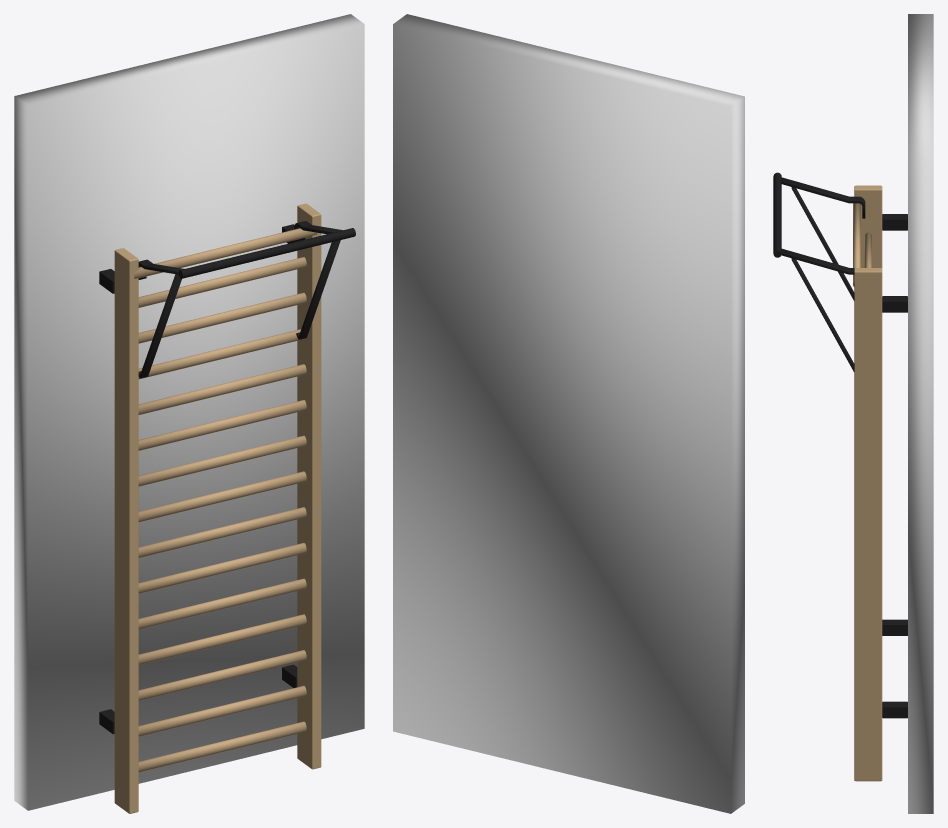
The model's file is gymleco-wooden-wall-bars-with-chins-rack_v001.glb.
3 renders of one model, left to right at view 1: azimuth 30°, elevation 25°; view 2: azimuth 150°, elevation 25°; view 3: azimuth 270°, elevation 25°, orthographic. The views are drawn at different scales.
Parts seen in each view (by area): view 1: gymleco-wooden-wall-bars-with-chins-rack_wall, gymleco-wooden-wall-bars-with-chins-rack_beech, gymleco-wooden-wall-bars-with-chins-rack_pine, gymleco-wooden-wall-bars-with-chins-rack_frame.001, gymleco-wooden-wall-bars-with-chins-rack_frame.002, gymleco-wooden-wall-bars-with-chins-rack_frame; view 2: gymleco-wooden-wall-bars-with-chins-rack_wall; view 3: gymleco-wooden-wall-bars-with-chins-rack_wall, gymleco-wooden-wall-bars-with-chins-rack_pine, gymleco-wooden-wall-bars-with-chins-rack_frame.001, gymleco-wooden-wall-bars-with-chins-rack_frame, gymleco-wooden-wall-bars-with-chins-rack_beech, gymleco-wooden-wall-bars-with-chins-rack_frame.002.
Part boxes in pixels (bbox=[...]): gymleco-wooden-wall-bars-with-chins-rack_wall: bbox=[14, 14, 364, 810]; gymleco-wooden-wall-bars-with-chins-rack_beech: bbox=[134, 228, 317, 772]; gymleco-wooden-wall-bars-with-chins-rack_pine: bbox=[114, 203, 321, 813]; gymleco-wooden-wall-bars-with-chins-rack_frame.001: bbox=[138, 221, 342, 378]; gymleco-wooden-wall-bars-with-chins-rack_frame.002: bbox=[178, 228, 355, 278]; gymleco-wooden-wall-bars-with-chins-rack_frame: bbox=[99, 224, 297, 734]; gymleco-wooden-wall-bars-with-chins-rack_wall: bbox=[393, 14, 744, 813]; gymleco-wooden-wall-bars-with-chins-rack_wall: bbox=[908, 14, 933, 813]; gymleco-wooden-wall-bars-with-chins-rack_pine: bbox=[854, 185, 882, 781]; gymleco-wooden-wall-bars-with-chins-rack_frame.001: bbox=[781, 177, 865, 371]; gymleco-wooden-wall-bars-with-chins-rack_frame: bbox=[882, 214, 907, 718]; gymleco-wooden-wall-bars-with-chins-rack_beech: bbox=[853, 203, 871, 286]; gymleco-wooden-wall-bars-with-chins-rack_frame.002: bbox=[773, 172, 781, 257].
Size of the model in its own units: 1.4 by 2.8 by 0.626.
